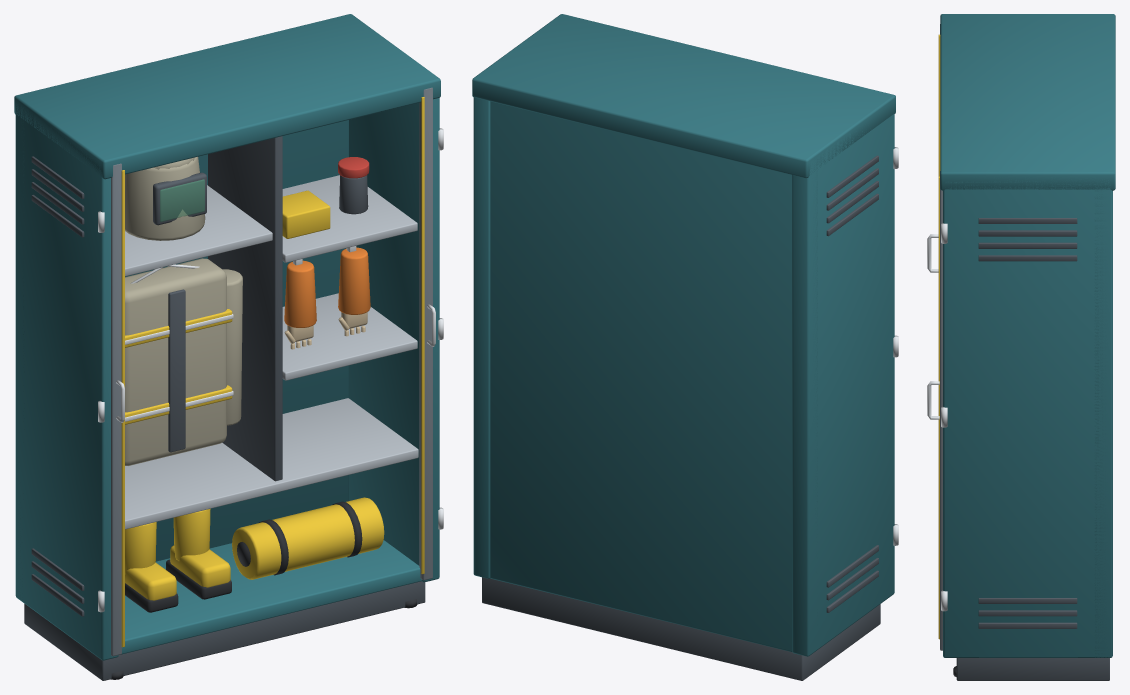
File: ppe-locker.glb
3 views of the same model, side by side, from view 1: azimuth 30°, elevation 25°; view 2: azimuth 150°, elevation 25°; view 3: azimuth 270°, elevation 25° (orthographic). The views are drawn at different scales.
Parts seen in each view (by area): view 1: PpeLockerCabinet, PpeLockerSuit, PpeLockerBoots, PpeLockerGloves; view 2: PpeLockerCabinet; view 3: PpeLockerCabinet.
Part boxes in pixels (x1,y1,x2,y2): PpeLockerCabinet: (14,14,443,680); PpeLockerSuit: (125,156,242,465); PpeLockerBoots: (125,497,384,612); PpeLockerGloves: (284,246,370,349); PpeLockerCabinet: (472,14,898,680); PpeLockerCabinet: (927,14,1115,680).
Bounding box in the file's own units: 1.41 × 2.06 × 0.687.
